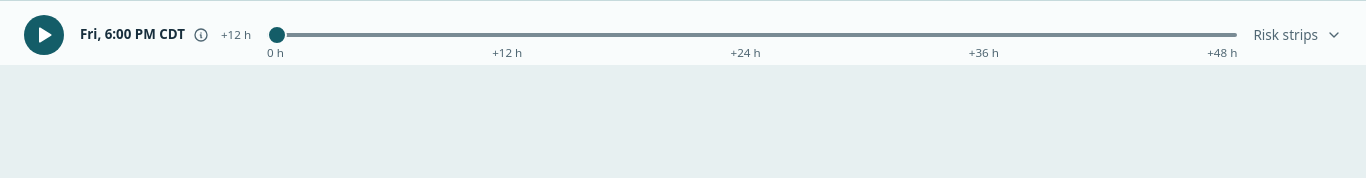
Test case: accessible forecast control › opens risk strips without crashing and labels each truck's position
Click the button "Risk strips" at (1298, 35), box [1253,17,1342,53]
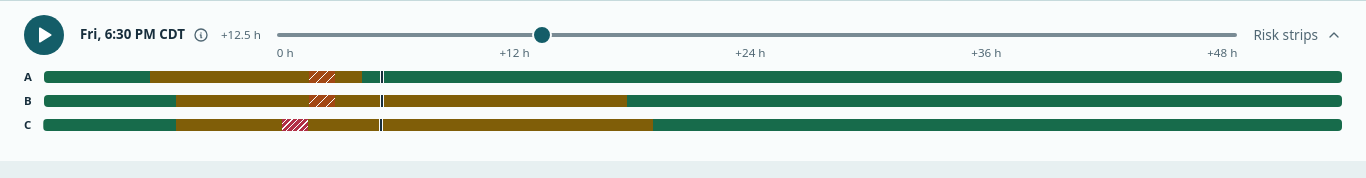
Result: the number of elements with class "risk-playhead" is 3 at [381,71,383,83]; [381,95,383,107]; [380,119,382,131]
Click the button "Risk strips" at (1298, 35), box [1253,17,1342,53]
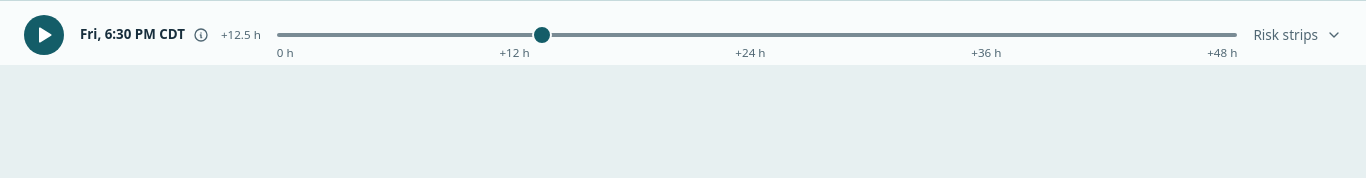
Result: the button "Risk strips" is collapsed at [1253,17,1342,53]
